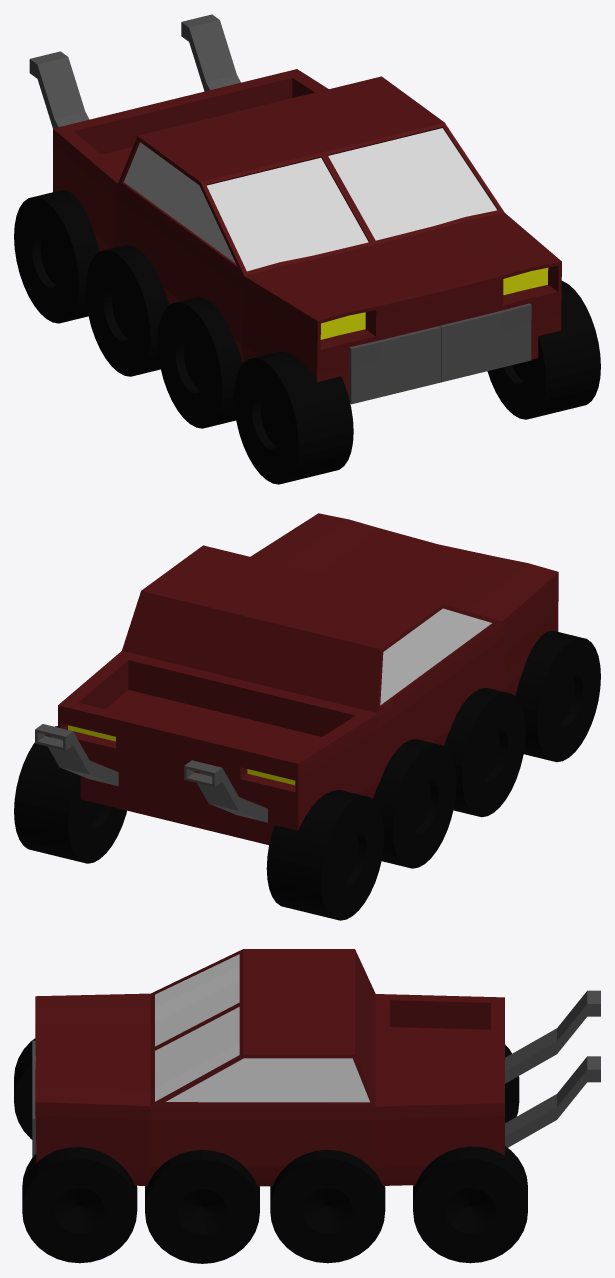
The model's file is Car.fbx.
The picture shows the model from 3 angles, top to bottom: view 1: azimuth 30°, elevation 25°; view 2: azimuth 150°, elevation 25°; view 3: azimuth 270°, elevation 25°; orthographic projection. The views are drawn at different scales.
Visible parts, largest first — view 1: Car, Wheel2, Wheel8, Wheel4, Wheel6, wheel1; view 2: Car, Wheel8, Wheel2, Wheel7, Wheel6, Wheel4; view 3: Car, Wheel7, wheel1, Wheel3, Wheel5, Wheel2, Wheel8.
Boxes of the visible parts, x1=… form: Car: x1=29, y1=14, x2=561, y2=404; Wheel2: x1=234, y1=351, x2=353, y2=484; Wheel8: x1=14, y1=190, x2=99, y2=323; Wheel4: x1=157, y1=297, x2=242, y2=428; Wheel6: x1=85, y1=245, x2=169, y2=376; wheel1: x1=487, y1=281, x2=600, y2=419; Car: x1=35, y1=513, x2=558, y2=844; Wheel8: x1=266, y1=790, x2=384, y2=920; Wheel2: x1=515, y1=630, x2=600, y2=762; Wheel7: x1=14, y1=726, x2=126, y2=863; Wheel6: x1=373, y1=739, x2=456, y2=868; Wheel4: x1=444, y1=687, x2=525, y2=817; Car: x1=32, y1=949, x2=600, y2=1186; Wheel7: x1=413, y1=1146, x2=527, y2=1263; wheel1: x1=22, y1=1147, x2=137, y2=1263; Wheel3: x1=145, y1=1150, x2=259, y2=1263; Wheel5: x1=270, y1=1149, x2=385, y2=1263; Wheel2: x1=14, y1=1038, x2=35, y2=1139; Wheel8: x1=505, y1=1044, x2=519, y2=1122.
Bounding box in the file's own units: 566 × 384 × 1049.
